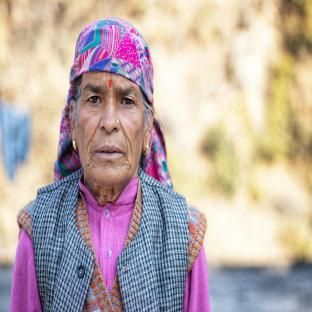Human: (9, 18, 210, 312)
